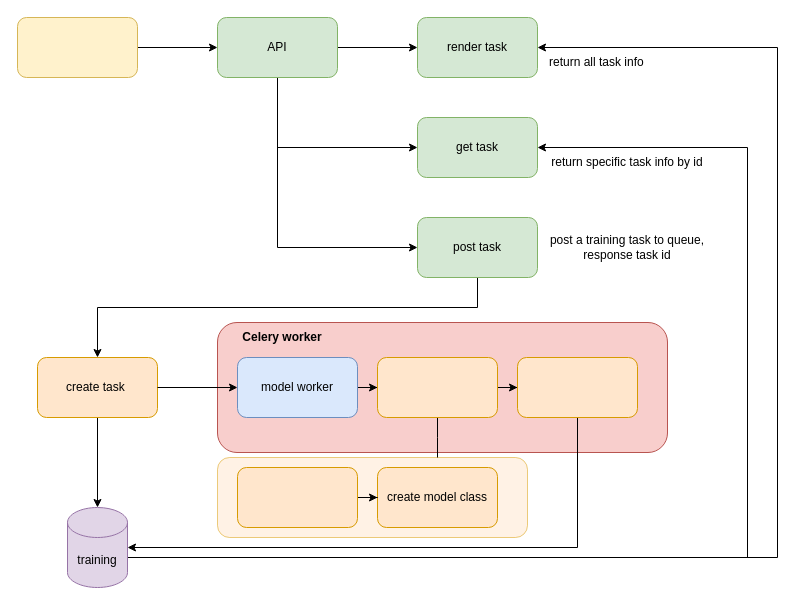
Some shapes in this 803 by 605 pixel diagram are drawn without their labels. Here are the shapes that lost their labels. From the top down, the centre of each, then its label:
At point 77,47: "client request".
At point 437,387: "init model".
At point 577,387: "training / eval".
At point 297,497: "data preprocess".
